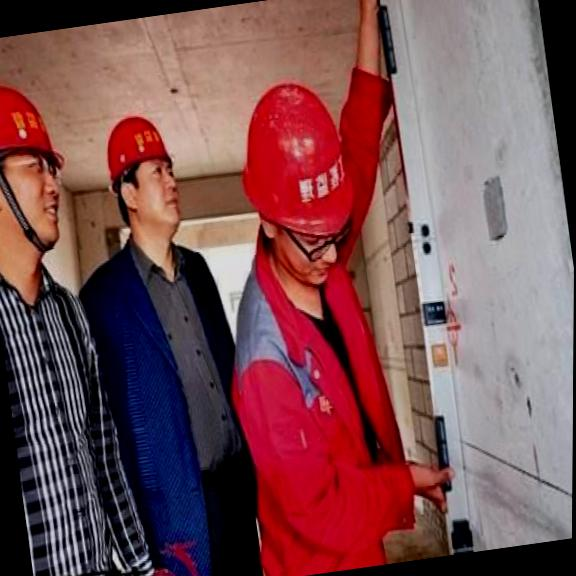no_safety_vest: (212, 246, 427, 576), (79, 235, 263, 529), (0, 244, 146, 576)
